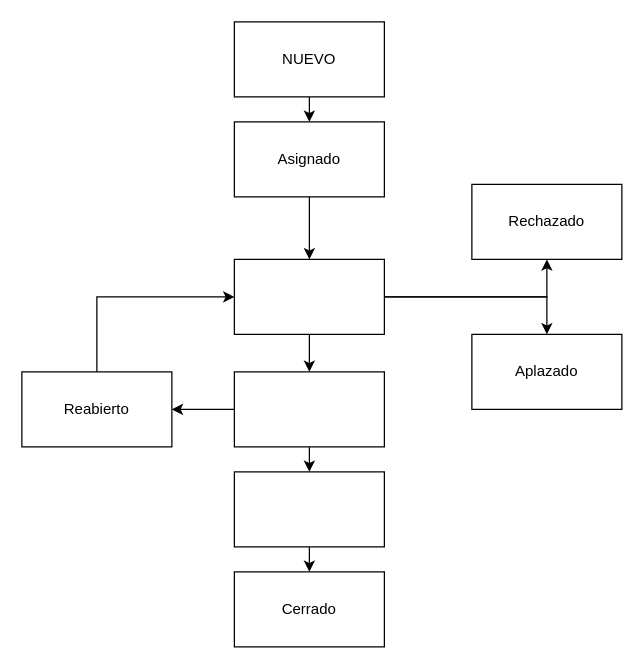
This 644x669 diagram has some shape labels left out. Each missing label, with the centre of its shape:
Activo: point (308, 296)
Para probar: point (308, 409)
Verificado: point (308, 509)
